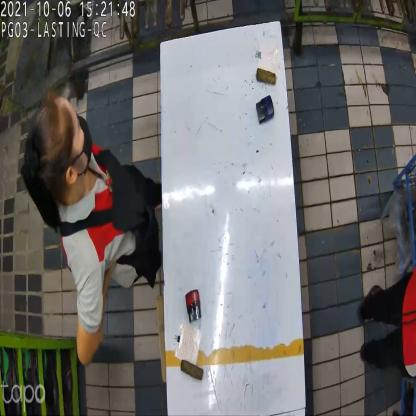stamp: (184, 290, 203, 326), (256, 94, 274, 128)
